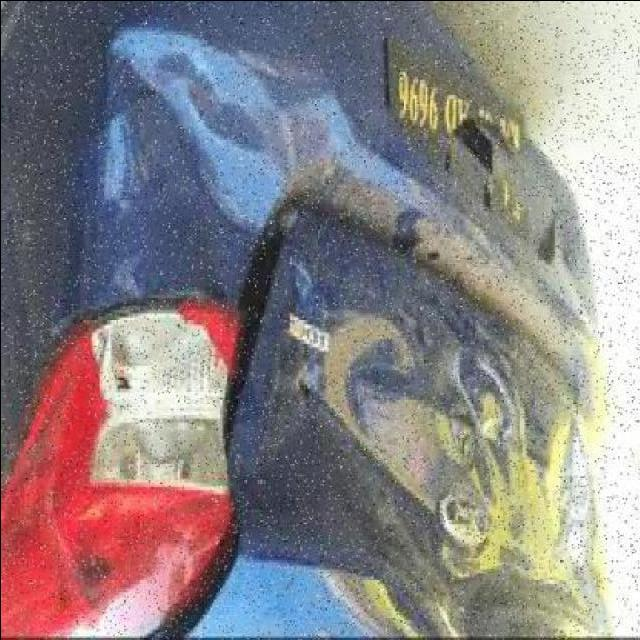Taillight-Damage: (3, 305, 245, 640)
rear-bumper-dent: (54, 4, 458, 297)
